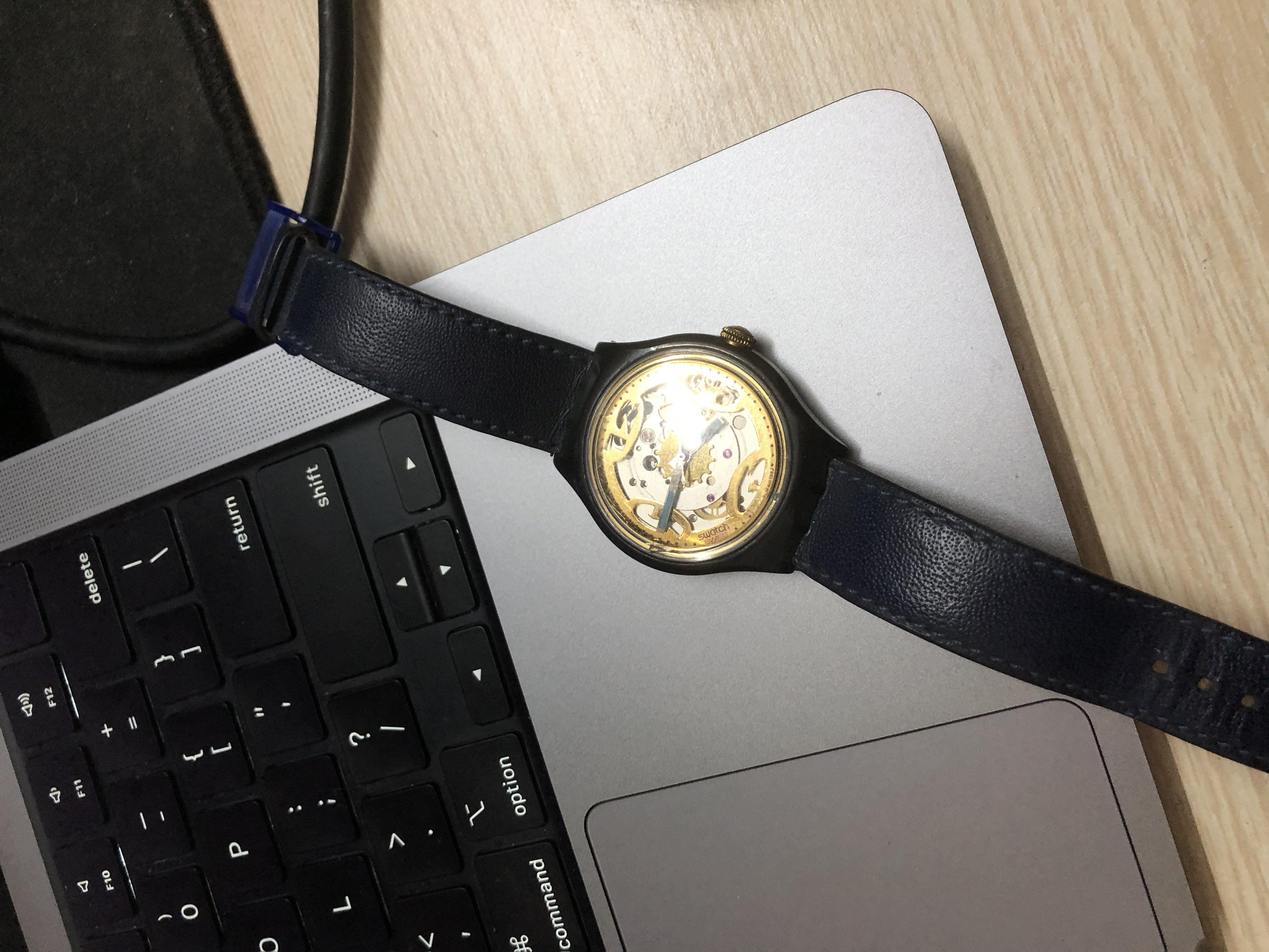watch: (488, 403, 846, 644)
